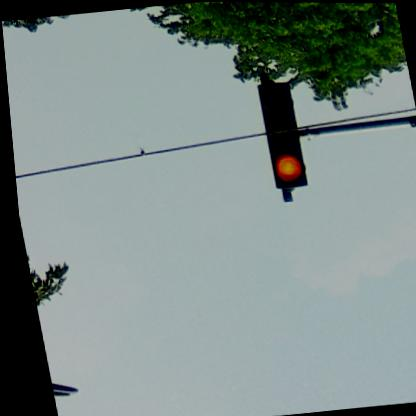red: (255, 80, 306, 189)
